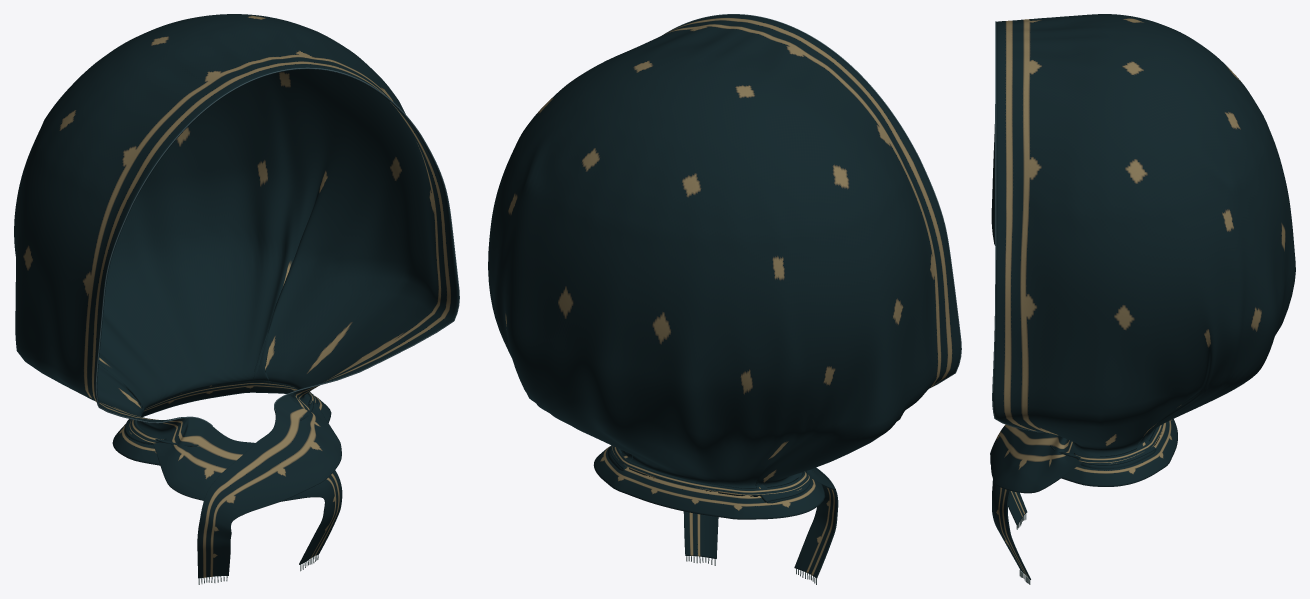
File: Feminine-strappy-pashmina240-headgear.glb
The picture shows the model from 3 angles, left to right: view 1: azimuth 30°, elevation 25°; view 2: azimuth 150°, elevation 25°; view 3: azimuth 270°, elevation 25°; orthographic projection. The views are drawn at different scales.
Parts seen in each view (by area): view 1: 226 headgear / Headwear / continuous woven pashmina239, 226 headgear / Headwear / face edge239; view 2: 226 headgear / Headwear / continuous woven pashmina239, 226 headgear / Headwear / face edge239; view 3: 226 headgear / Headwear / continuous woven pashmina239, 226 headgear / Headwear / face edge239.
Part boxes in pixels (bbox=[...]): 226 headgear / Headwear / continuous woven pashmina239: bbox=[14, 14, 458, 578]; 226 headgear / Headwear / face edge239: bbox=[95, 67, 459, 425]; 226 headgear / Headwear / continuous woven pashmina239: bbox=[488, 14, 960, 578]; 226 headgear / Headwear / face edge239: bbox=[663, 14, 961, 387]; 226 headgear / Headwear / continuous woven pashmina239: bbox=[990, 14, 1295, 579]; 226 headgear / Headwear / face edge239: bbox=[992, 21, 1043, 432].
Size of the model in its own units: 1.02 by 1.35 by 0.7153.
Materials: 3 (1 with a texture image).
